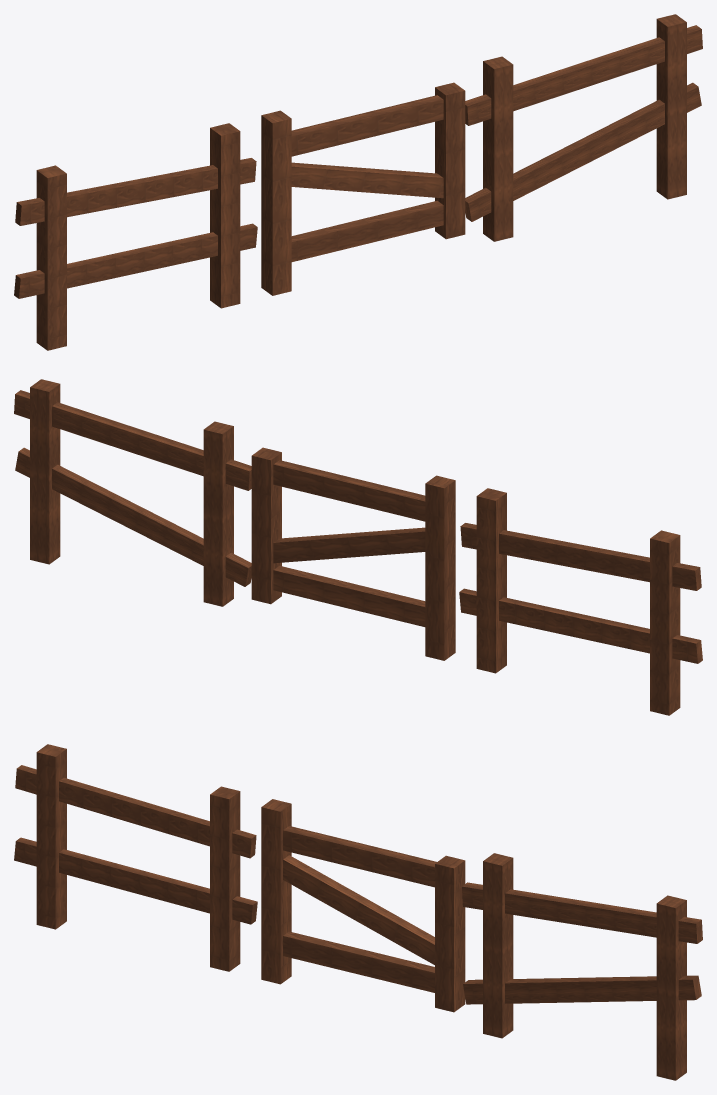
Rendered from fences.fbx.
3 views of the same model, one above another, from view 1: azimuth 30°, elevation 25°; view 2: azimuth 150°, elevation 25°; view 3: azimuth 330°, elevation 25° (orthographic).
Visible parts, largest first — view 1: FenceGate, Fence2, Fence1; view 2: FenceGate, Fence2, Fence1; view 3: FenceGate, Fence1, Fence2.
Boxes of the visible parts, <box> form: FenceGate: <box>261,82,465,295</box>; Fence2: <box>465,14,702,241</box>; Fence1: <box>14,123,257,350</box>; FenceGate: <box>251,447,455,660</box>; Fence2: <box>14,379,251,606</box>; Fence1: <box>459,488,702,715</box>; FenceGate: <box>261,799,465,1012</box>; Fence1: <box>14,744,257,971</box>; Fence2: <box>462,853,702,1080</box>.
Bounding box in the file's own units: 771 × 186 × 21.68.
